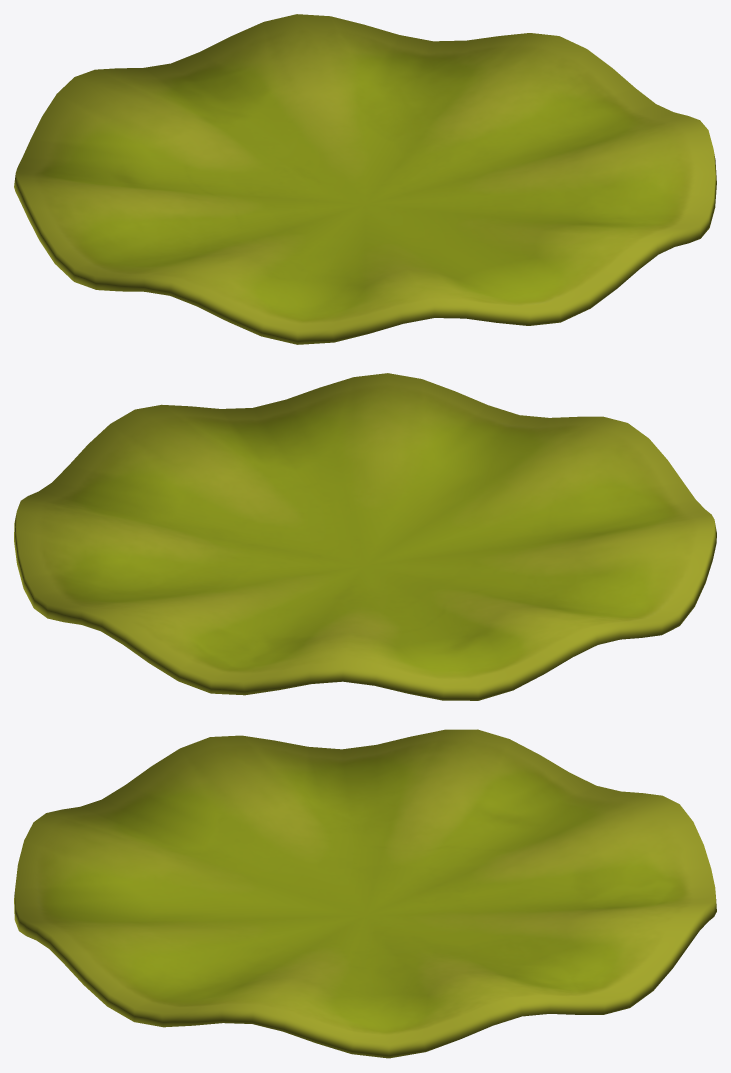
File: lettuce.glb
3 views of the same model, one above another, from view 1: azimuth 30°, elevation 25°; view 2: azimuth 150°, elevation 25°; view 3: azimuth 270°, elevation 25° (orthographic).
Parts seen in each view (by area): view 1: Lettuce_low.002; view 2: Lettuce_low.002; view 3: Lettuce_low.002.
Part boxes in pixels (bbox=[...]): Lettuce_low.002: bbox=[14, 14, 716, 344]; Lettuce_low.002: bbox=[14, 373, 716, 700]; Lettuce_low.002: bbox=[14, 729, 716, 1058].
Bounding box in the file's own units: 0.2397 × 0.0221 × 0.2397.
Materials: 1 (1 with a texture image).
